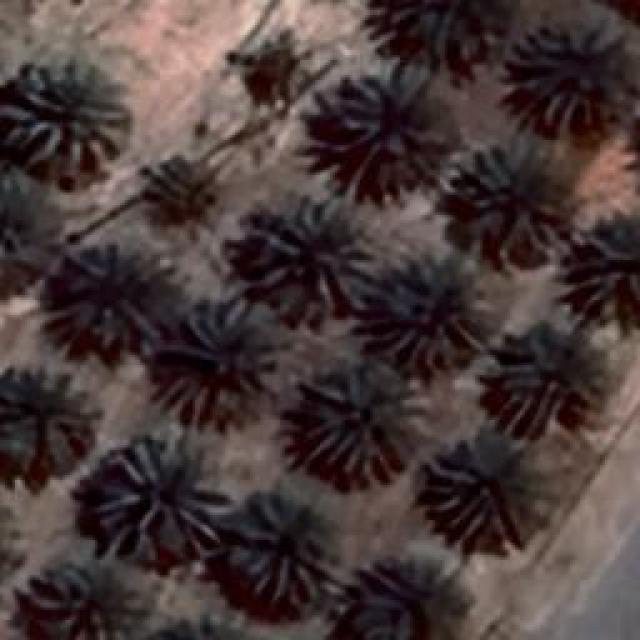PalmTree: (88, 432, 230, 558), (302, 360, 430, 485), (420, 420, 545, 548), (150, 300, 272, 425), (368, 250, 492, 370), (252, 200, 378, 318), (338, 64, 452, 188), (2, 60, 130, 170), (490, 310, 610, 425), (508, 14, 628, 128), (228, 490, 340, 605), (468, 140, 570, 250), (22, 552, 152, 638), (350, 552, 465, 638), (0, 368, 95, 470), (56, 256, 154, 354), (378, 0, 502, 75), (570, 212, 638, 328), (0, 188, 52, 281), (140, 154, 208, 214), (238, 40, 306, 100), (152, 610, 272, 640), (606, 0, 640, 23)
